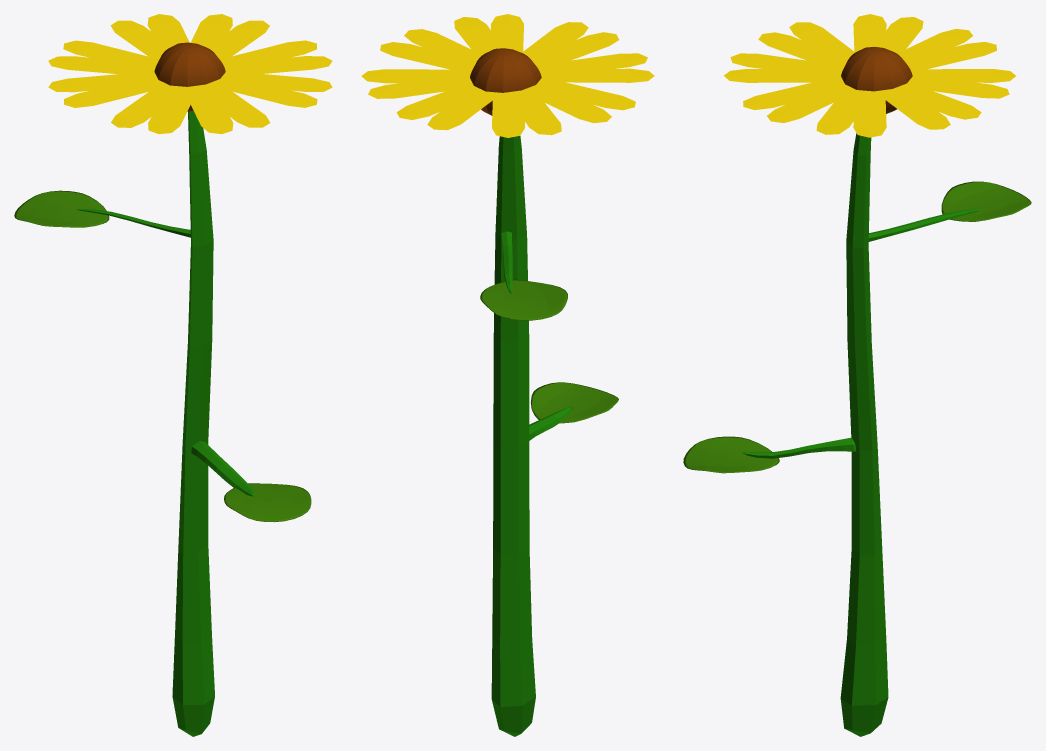
File: BES Flowering SDM New.fbx
3 views of the same model, side by side, from view 1: azimuth 30°, elevation 25°; view 2: azimuth 150°, elevation 25°; view 3: azimuth 270°, elevation 25° (orthographic).
Parts seen in each view (by area): view 1: Cylinder.001, Plane.001, Plane, Sphere, Plane.004, Plane.008, Plane.002, Plane.007, Plane.003, Plane.014, Plane.015, Plane.012 (+8 smaller); view 2: Cylinder.001, Plane.001, Sphere, Plane, Plane.008, Plane.002, Plane.009, Plane.006, Plane.005, Plane.010, Plane.014, Plane.003 (+8 smaller); view 3: Cylinder.001, Plane, Plane.001, Sphere, Plane.012, Plane.007, Plane.008, Plane.009, Plane.003, Plane.011, Plane.005, Plane.004 (+8 smaller).
Boxes of the visible parts, left/top/right/bottom form: Cylinder.001: left=76, top=111, right=254, bottom=736; Plane.001: left=14, top=190, right=109, bottom=227; Plane: left=224, top=483, right=311, bottom=522; Sphere: left=154, top=42, right=225, bottom=111; Plane.004: left=193, top=81, right=270, bottom=127; Plane.008: left=148, top=85, right=199, bottom=133; Plane.002: left=64, top=75, right=172, bottom=107; Plane.007: left=213, top=71, right=332, bottom=91; Plane.003: left=220, top=40, right=316, bottom=72; Plane.014: left=63, top=40, right=157, bottom=72; Plane.015: left=207, top=75, right=317, bottom=107; Plane.012: left=184, top=83, right=233, bottom=134; Cylinder.001: left=491, top=136, right=572, bottom=736; Plane.001: left=480, top=279, right=567, bottom=320; Sphere: left=470, top=48, right=541, bottom=115; Plane: left=530, top=382, right=618, bottom=423; Plane.008: left=536, top=53, right=647, bottom=77; Plane.002: left=530, top=77, right=635, bottom=110; Plane.009: left=368, top=74, right=475, bottom=98; Plane.006: left=505, top=86, right=561, bottom=135; Plane.005: left=427, top=87, right=501, bottom=130; Plane.010: left=521, top=81, right=611, bottom=123; Plane.014: left=492, top=91, right=524, bottom=137; Plane.003: left=380, top=42, right=476, bottom=73; Cylinder.001: left=742, top=133, right=981, bottom=736; Plane: left=683, top=436, right=779, bottom=473; Plane.001: left=941, top=181, right=1031, bottom=221; Sphere: left=841, top=46, right=912, bottom=113; Plane.012: left=730, top=53, right=843, bottom=78; Plane.007: left=767, top=81, right=854, bottom=122; Plane.008: left=758, top=32, right=848, bottom=72; Plane.009: left=885, top=82, right=981, bottom=119; Plane.003: left=853, top=89, right=886, bottom=137; Plane.011: left=816, top=85, right=873, bottom=134; Plane.005: left=908, top=69, right=1015, bottom=82; Plane.004: left=724, top=69, right=843, bottom=82.
Bounding box in the file's own units: 169 × 439 × 201.
